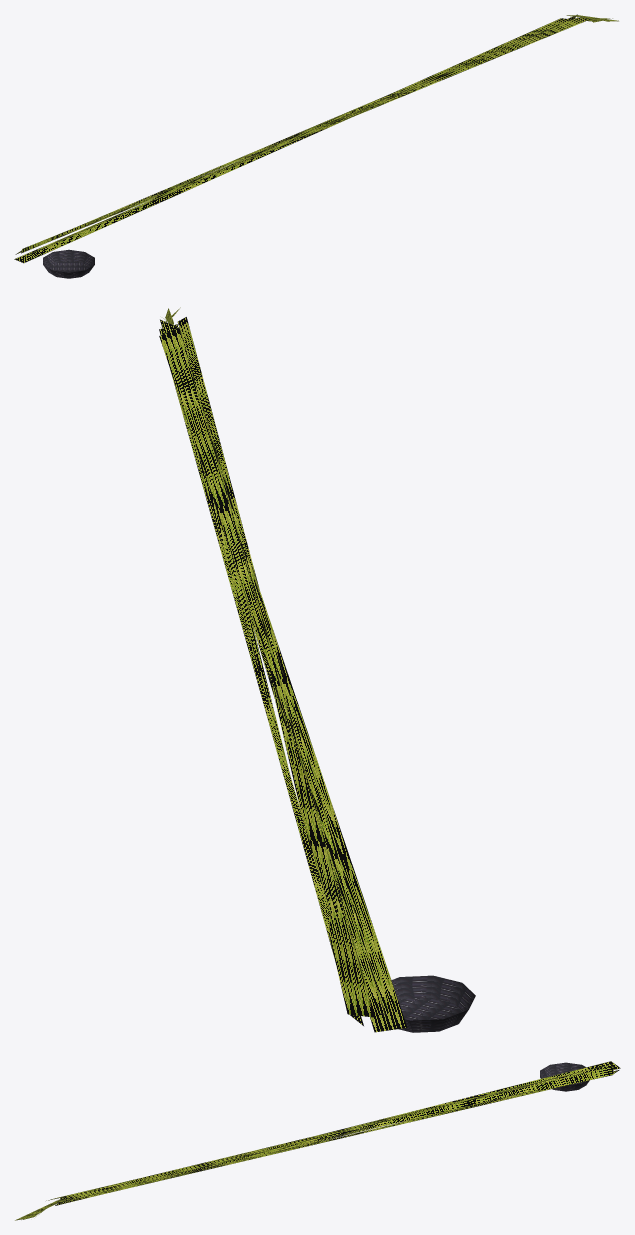
Rendered from 1062item533.gltf.
The picture shows the model from 3 angles, top to bottom: view 1: azimuth 90°, elevation 25°; view 2: azimuth 150°, elevation 25°; view 3: azimuth 270°, elevation 25°; orthographic projection. The views are drawn at different scales.
Visible parts, largest first — view 1: 1062item533; view 2: 1062item533; view 3: 1062item533.
Boxes of the visible parts, bbox=[...] form: 1062item533: bbox=[14, 14, 618, 278]; 1062item533: bbox=[159, 307, 475, 1032]; 1062item533: bbox=[15, 1061, 620, 1220].
Bounding box in the file's own units: 9.08 × 1.42 × 11.3.
2 materials, 2 textured.
